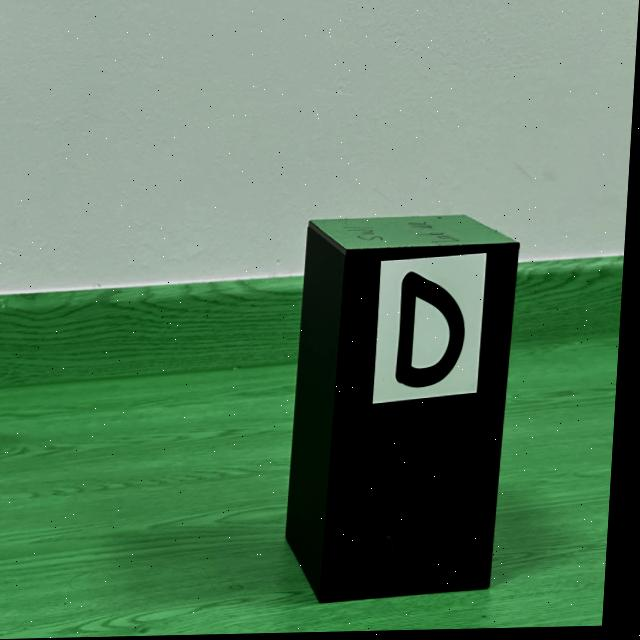D: (401, 274, 469, 389)
